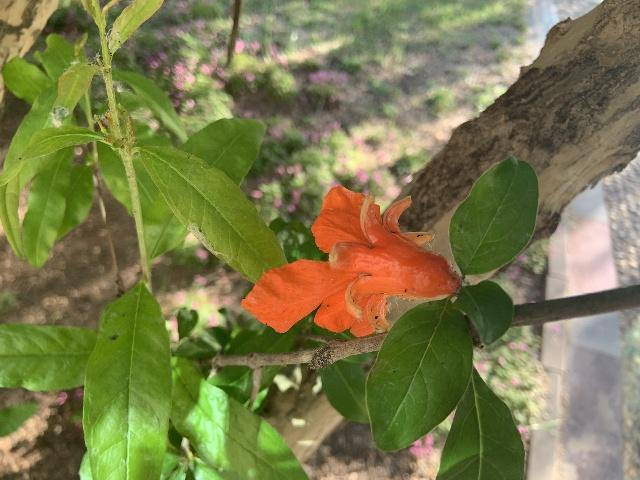flower: (240, 186, 460, 337)
